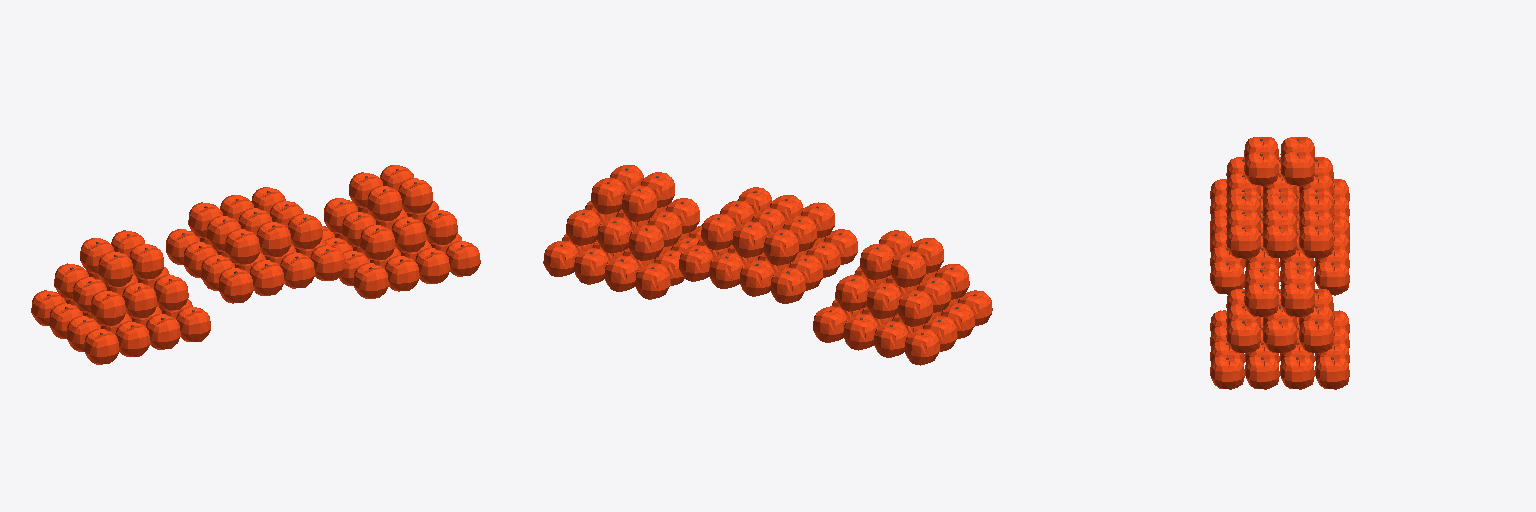
File: peachPile.obj
The picture shows the model from 3 angles: view 1: azimuth 30°, elevation 25°; view 2: azimuth 150°, elevation 25°; view 3: azimuth 270°, elevation 25°; orthographic projection.
Visible parts, largest first — view 1: peachPile_peach_Roundcube.006; view 2: peachPile_peach_Roundcube.006; view 3: peachPile_peach_Roundcube.006.
Boxes of the visible parts, box(x1,y1,x2,y2) form: peachPile_peach_Roundcube.006: box(31, 165, 480, 364); peachPile_peach_Roundcube.006: box(543, 165, 992, 365); peachPile_peach_Roundcube.006: box(1210, 137, 1349, 389).
Bounding box in the file's own units: 121 × 26.26 × 37.62.